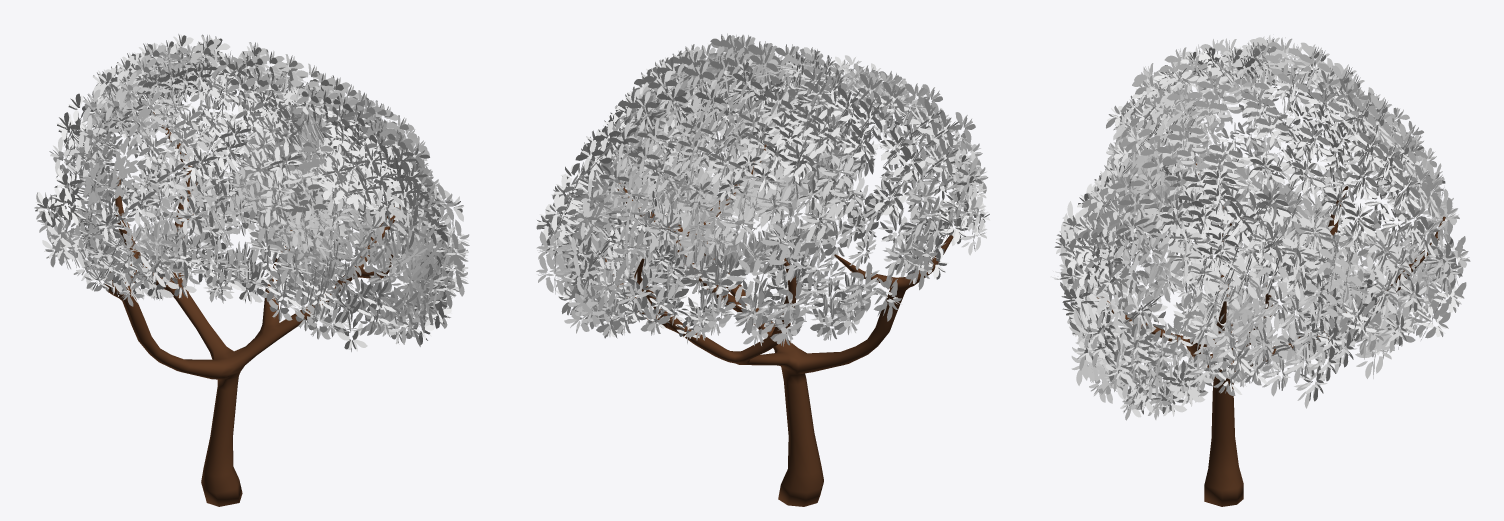
File: Cereja_RioGrande.fbx
The picture shows the model from 3 angles, left to right: view 1: azimuth 30°, elevation 25°; view 2: azimuth 150°, elevation 25°; view 3: azimuth 270°, elevation 25°; orthographic projection. The views are drawn at different scales.
Parts seen in each view (by area): view 1: Folha_Cereja_Rio_Grande.001, Cereja do Rio Grande_Crescida; view 2: Folha_Cereja_Rio_Grande.001, Cereja do Rio Grande_Crescida; view 3: Folha_Cereja_Rio_Grande.001, Cereja do Rio Grande_Crescida.
Part boxes in pixels (<box>): Folha_Cereja_Rio_Grande.001: <box>34,34,469,351</box>; Cereja do Rio Grande_Crescida: <box>105,112,400,506</box>; Folha_Cereja_Rio_Grande.001: <box>536,33,990,346</box>; Cereja do Rio Grande_Crescida: <box>605,144,953,506</box>; Folha_Cereja_Rio_Grande.001: <box>1051,35,1470,420</box>; Cereja do Rio Grande_Crescida: <box>1096,163,1445,506</box>.
Size of the model in its own units: 258 by 281 by 257.
